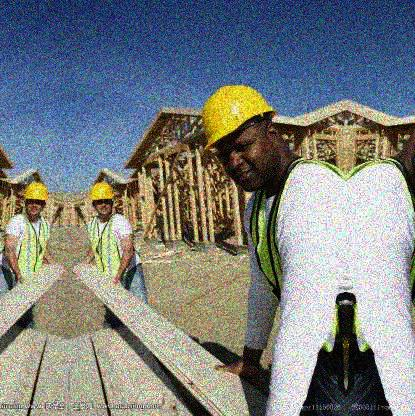helmet: (199, 84, 281, 192), (24, 181, 50, 217), (90, 182, 116, 216)
